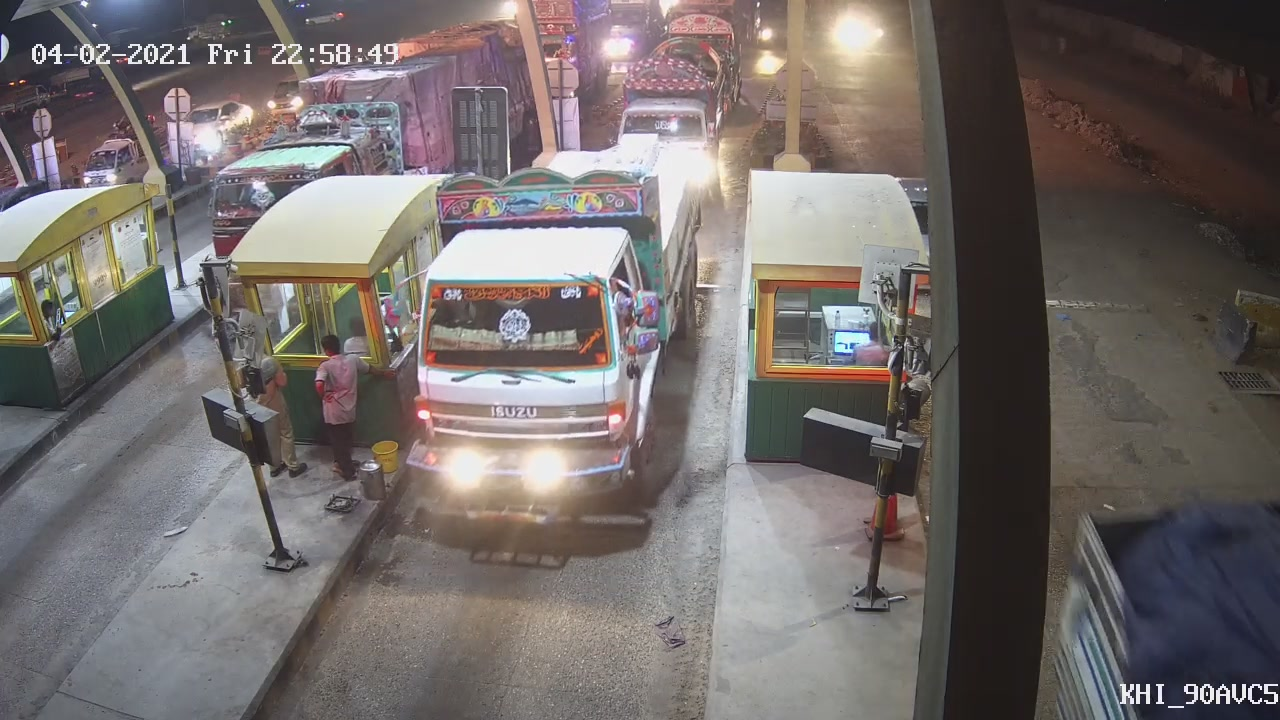F5: (399, 131, 701, 531)
